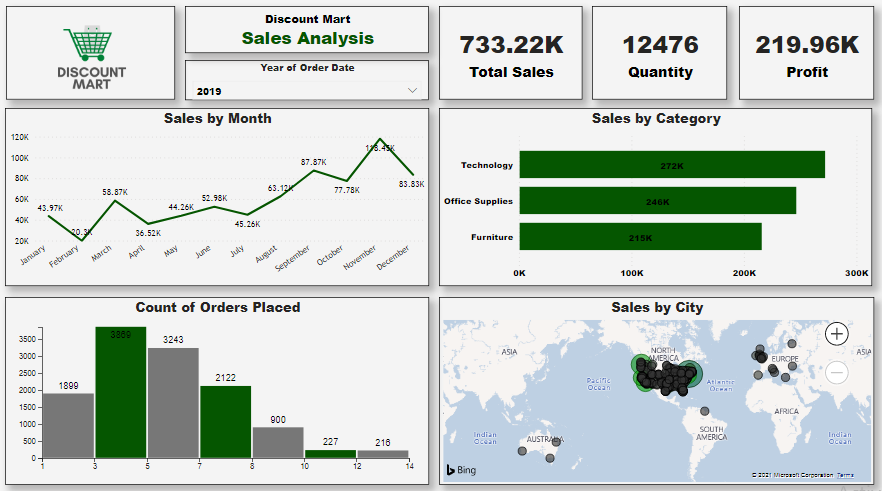

Layout of this report page (visuals, bound fields, positions):
{"tool":"powerbi","page":{"name":"Sales Analysis","canvas":[1280,720],"ordinal":0},"visuals":[{"type":"card","fields":{"Values":["Date Table.Total Sales"]},"box":[640,18.6,206.6,135.4],"z":0},{"type":"slicer","title":"Year of Order Date","fields":{"Values":["Date Table.Year"]},"box":[274.1,96.7,352.1,57.7],"z":1000},{"type":"card","fields":{"Values":["Sum(Sales Table.Quantity)"]},"box":[861.8,18.6,194.7,135.4],"z":2000},{"type":"card","fields":{"Values":["Sales Table.Profit"]},"box":[1073.4,18.6,194.7,135.4],"z":3000},{"type":"barChart","fields":{"Category":["Sales Table.Category"],"Y":["Sum(Sales Table.Sales)"]},"box":[640.6,165.9,624.8,256.8],"z":4000},{"type":"textbox","box":[274.1,18.8,352.1,67.8],"z":5000},{"type":"image","box":[15.2,18.6,243.8,135.4],"z":6000},{"type":"map","fields":{"Size":["Sum(Sales Table.Sales)"],"Category":["Sales Table.City"]},"box":[640.6,438.6,627.7,271.3],"z":7000},{"type":"lineChart","fields":{"Y":["Sum(Sales Table.Sales)"],"Category":["Date Table.Date.Variation.Date Hierarchy.Year","Date Table.Date.Variation.Date Hierarchy.Quarter","Date Table.Date.Variation.Date Hierarchy.Month","Date Table.Date.Variation.Date Hierarchy.Day"]},"box":[14.4,165.9,611.8,256.8],"z":8000},{"type":"Histogram1445664487616","title":"Count of Orders Placed","fields":{"Values":["Sales Table.Quantity (bins)"],"Frequency":["Sum(Sales Table.Quantity)"]},"box":[14,439,612,271],"z":9000}]}

Visuals, with their boxes in screenshot pixels (x1, y1, x2, y2), scaled from the page's 1280x720 canvas onto the 882x491 screenshot:
card - Date Table.Total Sales: <box>441,13,583,105</box>
"Year of Order Date" slicer: <box>189,66,431,105</box>
card - Sum(Sales Table.Quantity): <box>594,13,728,105</box>
card - Sales Table.Profit: <box>740,13,874,105</box>
barChart - Sales Table.Category x Sum(Sales Table.Sales): <box>441,113,872,288</box>
textbox: <box>189,13,431,59</box>
image: <box>10,13,178,105</box>
map - Sum(Sales Table.Sales) x Sales Table.City: <box>441,299,874,484</box>
lineChart - Sum(Sales Table.Sales) x Date Table.Date.Variation.Date Hierarchy.Year: <box>10,113,431,288</box>
"Count of Orders Placed" Histogram1445664487616: <box>10,299,431,484</box>
